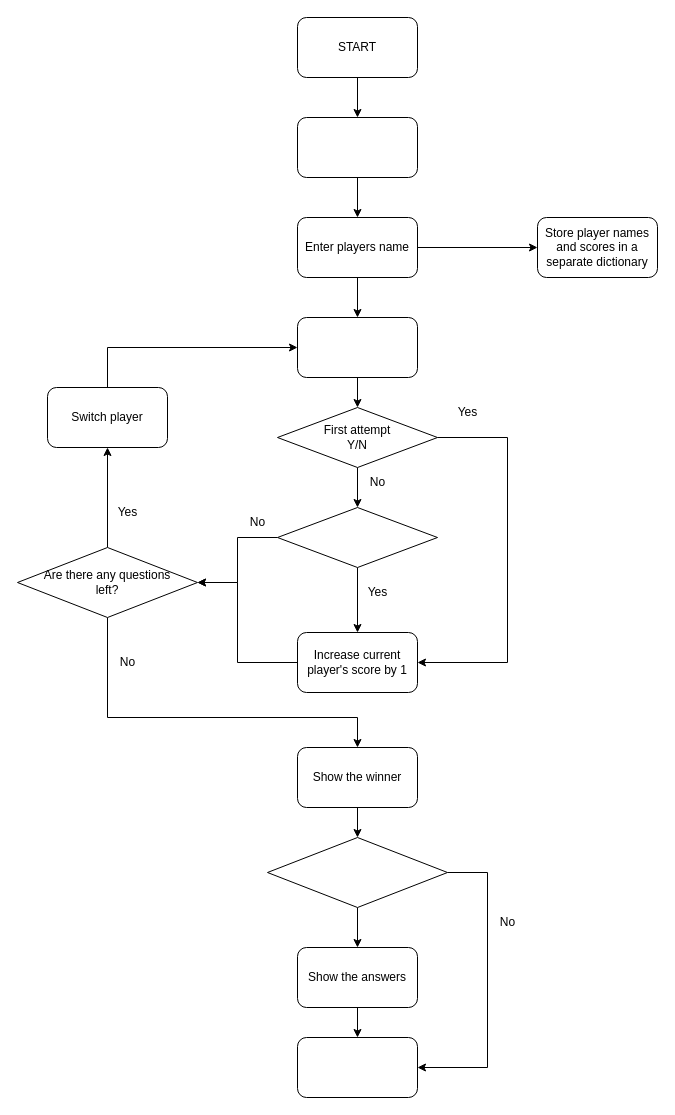
The diagram is 675 pixels wide and 1115 high, and some of its shapes have lost their labels. Here are the shapes that lost their labels. From the top down, the box of each, then its label:
(296, 116, 418, 178): Print Logo
(296, 316, 418, 378): Current player
(276, 506, 438, 568): Second attempt Y/N
(266, 836, 448, 908): Do they want to see the answers?
(296, 1036, 418, 1098): END
